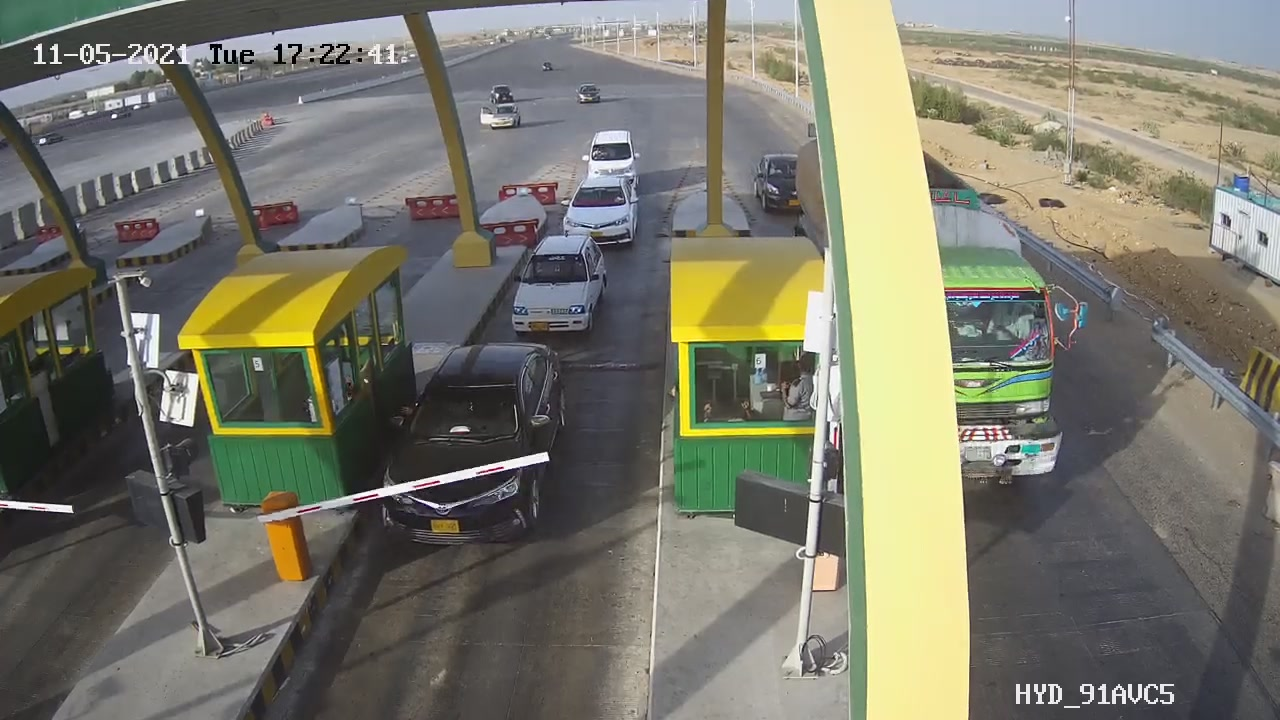F1: (364, 331, 587, 572), (495, 225, 627, 344)
